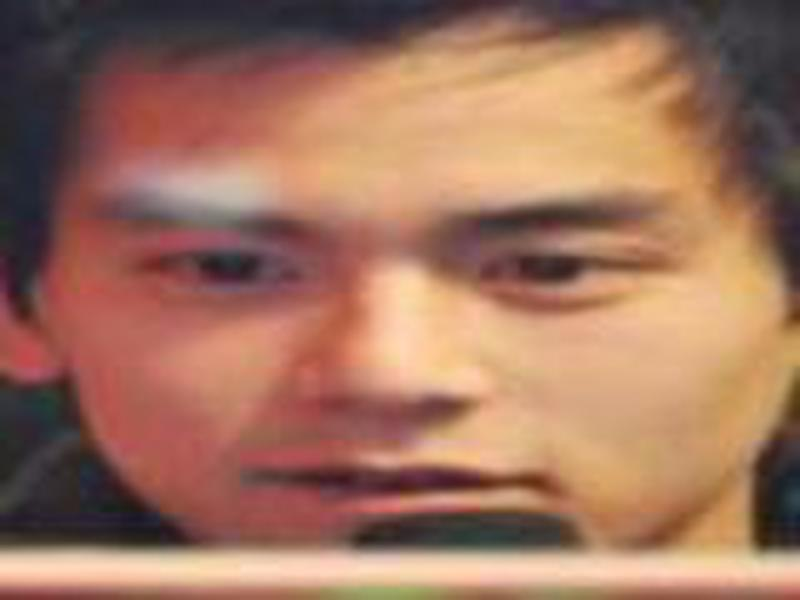without_mask: (55, 65, 757, 565)
